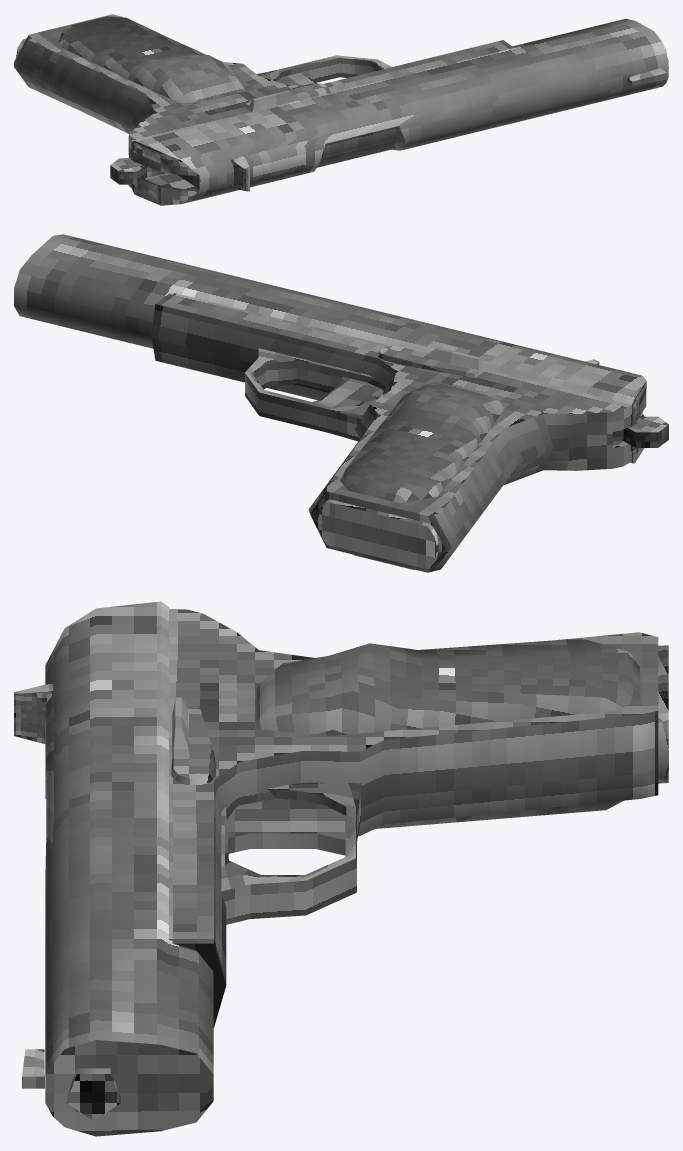
Rendered from weapon_tt30_obj.glb.
3 renders of one model, top to bottom at view 1: azimuth 30°, elevation 25°; view 2: azimuth 150°, elevation 25°; view 3: azimuth 270°, elevation 25°, orthographic. The views are drawn at different scales.
Bounding box in the file's own units: 8.56 × 1.15 × 5.11.
Materials: 1 (1 with a texture image).
